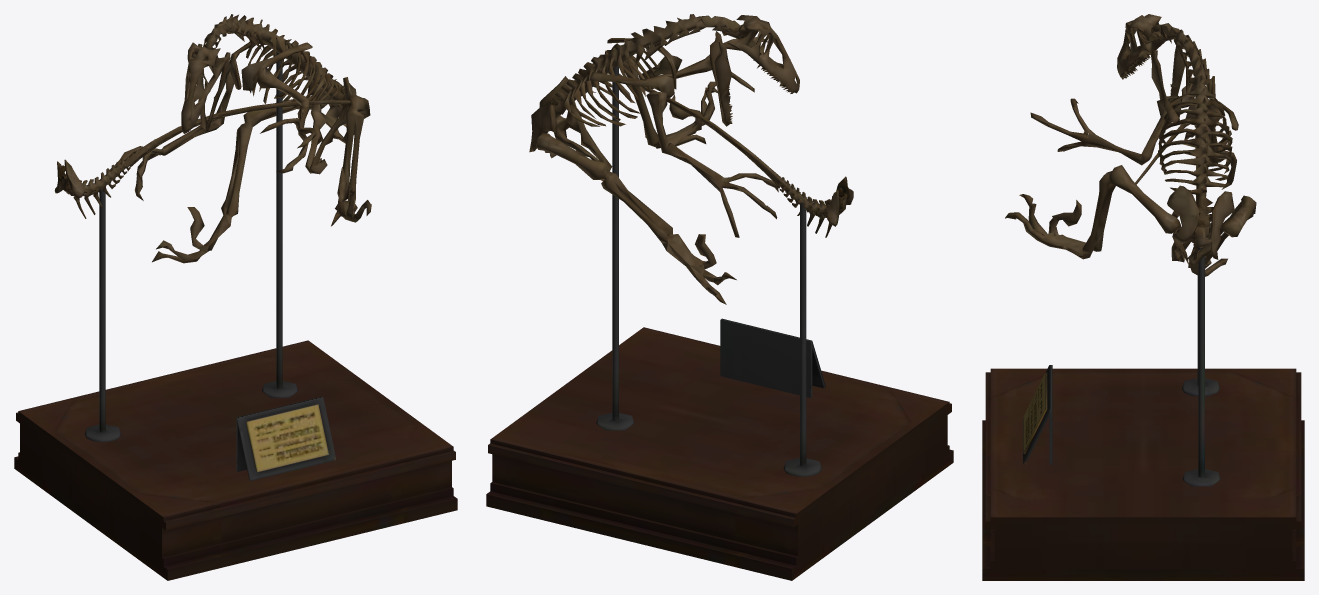
Rendered from fossil-deinony.glb.
3 renders of one model, left to right at view 1: azimuth 30°, elevation 25°; view 2: azimuth 150°, elevation 25°; view 3: azimuth 270°, elevation 25°, orthographic. The views are drawn at different scales.
Parts seen in each view (by area): view 1: mFossilBaseEnd (×2), mFtrFossilDeinonychusA, mFtrFossilDeinonychusB; view 2: mFossilBaseEnd (×2), mFtrFossilDeinonychusA, mFtrFossilDeinonychusB; view 3: mFossilBaseEnd (×2), mFtrFossilDeinonychusA, mFtrFossilDeinonychusB.
Part boxes in pixels (box(x1,y1,x2,y2)): mFossilBaseEnd (×2): box(14, 52, 457, 580); mFtrFossilDeinonychusA: box(109, 14, 371, 263); mFtrFossilDeinonychusB: box(54, 100, 350, 218); mFossilBaseEnd (×2): box(486, 66, 953, 580); mFtrFossilDeinonychusA: box(529, 14, 799, 304); mFtrFossilDeinonychusB: box(608, 72, 853, 237); mFossilBaseEnd (×2): box(982, 247, 1304, 580); mFtrFossilDeinonychusA: box(1005, 14, 1256, 276); mFtrFossilDeinonychusB: box(1135, 76, 1215, 184).
Bounding box in the file's own units: 20.09 × 30.13 × 18.33.
Materials: 4 (4 with a texture image).
